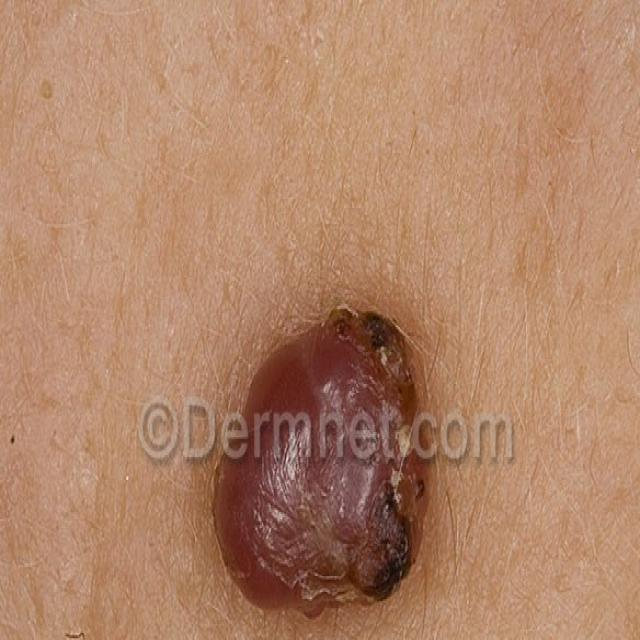Vascular Tumors: (200, 249, 435, 627)
